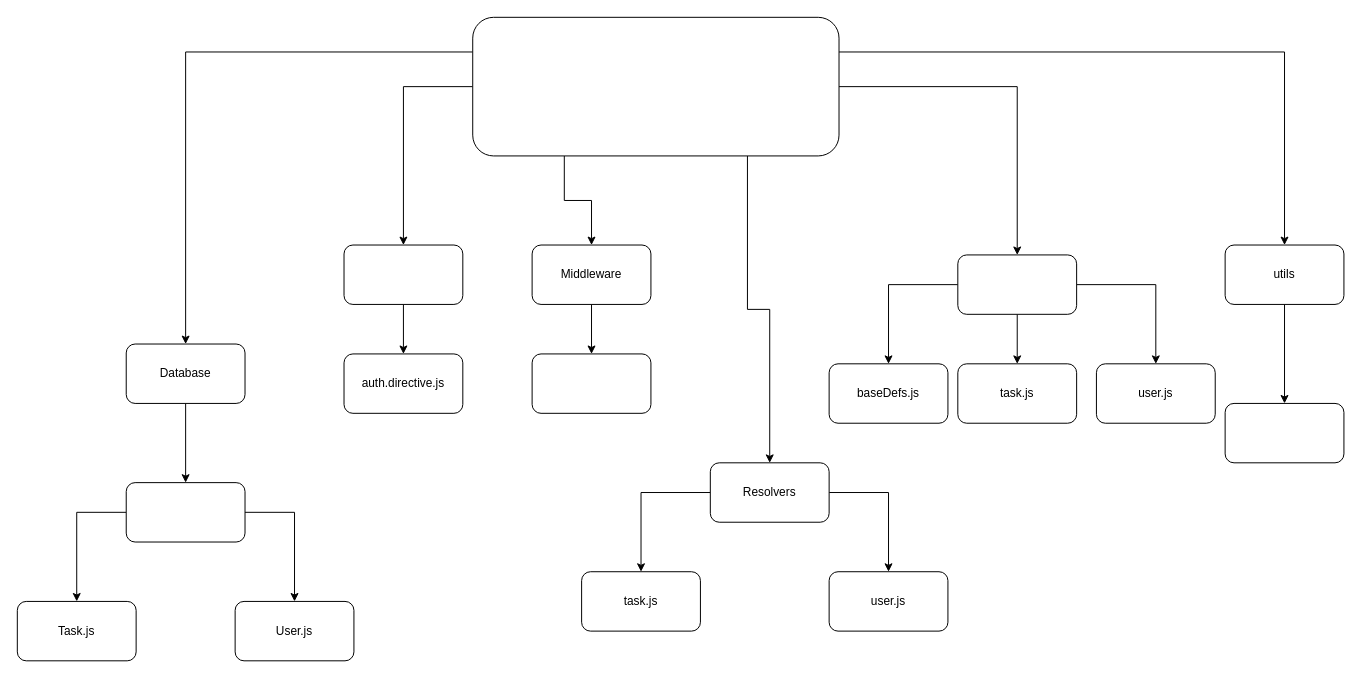
Some shapes in this 1361 by 678 pixel diagram are drawn without their labels. The shapes that lost their labels are listed below. From the top down, each one's centre as x and y in pixels, then its label:
At [655,86]: "Server".
At [403,274]: "Directives".
At [1017,284]: "typeDefs".
At [591,383]: "auth.js".
At [1284,432]: "Userfunctions.js".
At [185,512]: "Models".
